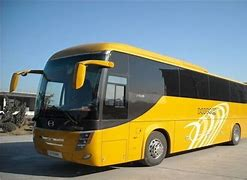bigcar: (16, 29, 246, 179)
